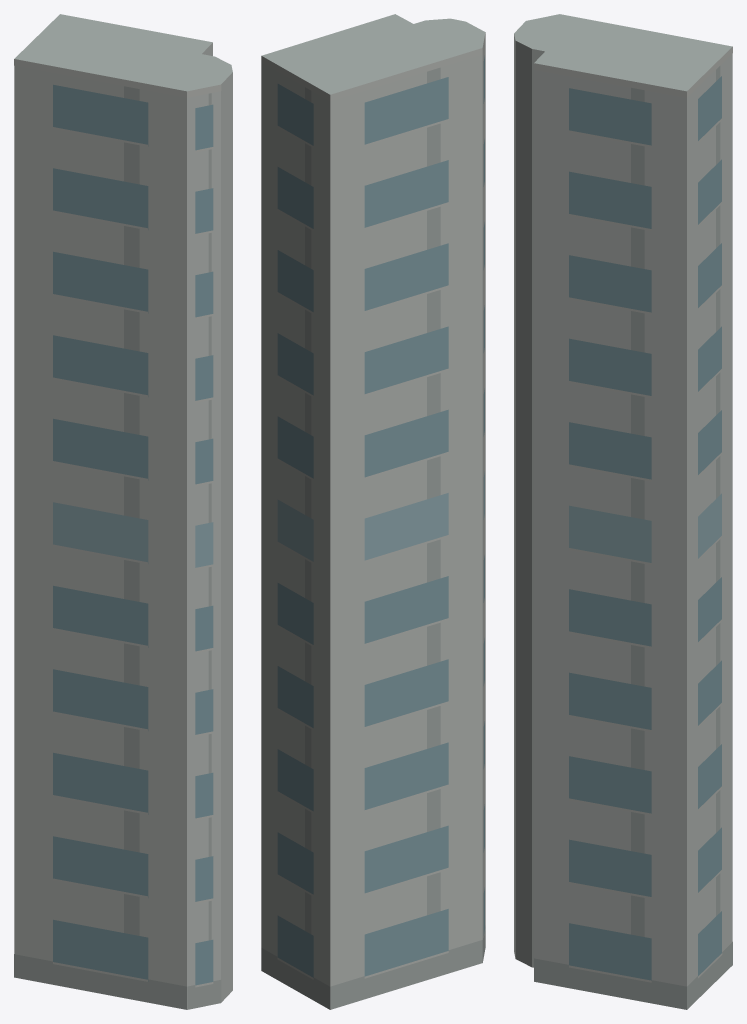
The model's file is survey-upis-32564955.glb.
3 renders of one model, left to right at view 1: azimuth 90°, elevation 25°; view 2: azimuth 150°, elevation 25°; view 3: azimuth 270°, elevation 25°, orthographic.
Parts seen in each view (by area): view 1: survey-upis-32564955.tmp; view 2: survey-upis-32564955.tmp; view 3: survey-upis-32564955.tmp.
Boxes of the visible parts, x1,y1,x2,y2 form: survey-upis-32564955.tmp: (14,14,232,1009); survey-upis-32564955.tmp: (261,14,485,1009); survey-upis-32564955.tmp: (514,14,732,1009).
Bounding box in the file's own units: 6.07 × 33.55 × 7.25.
